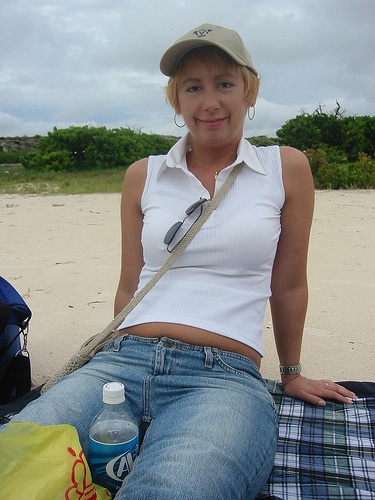head: (174, 42, 252, 150)
person: (25, 19, 360, 500)
